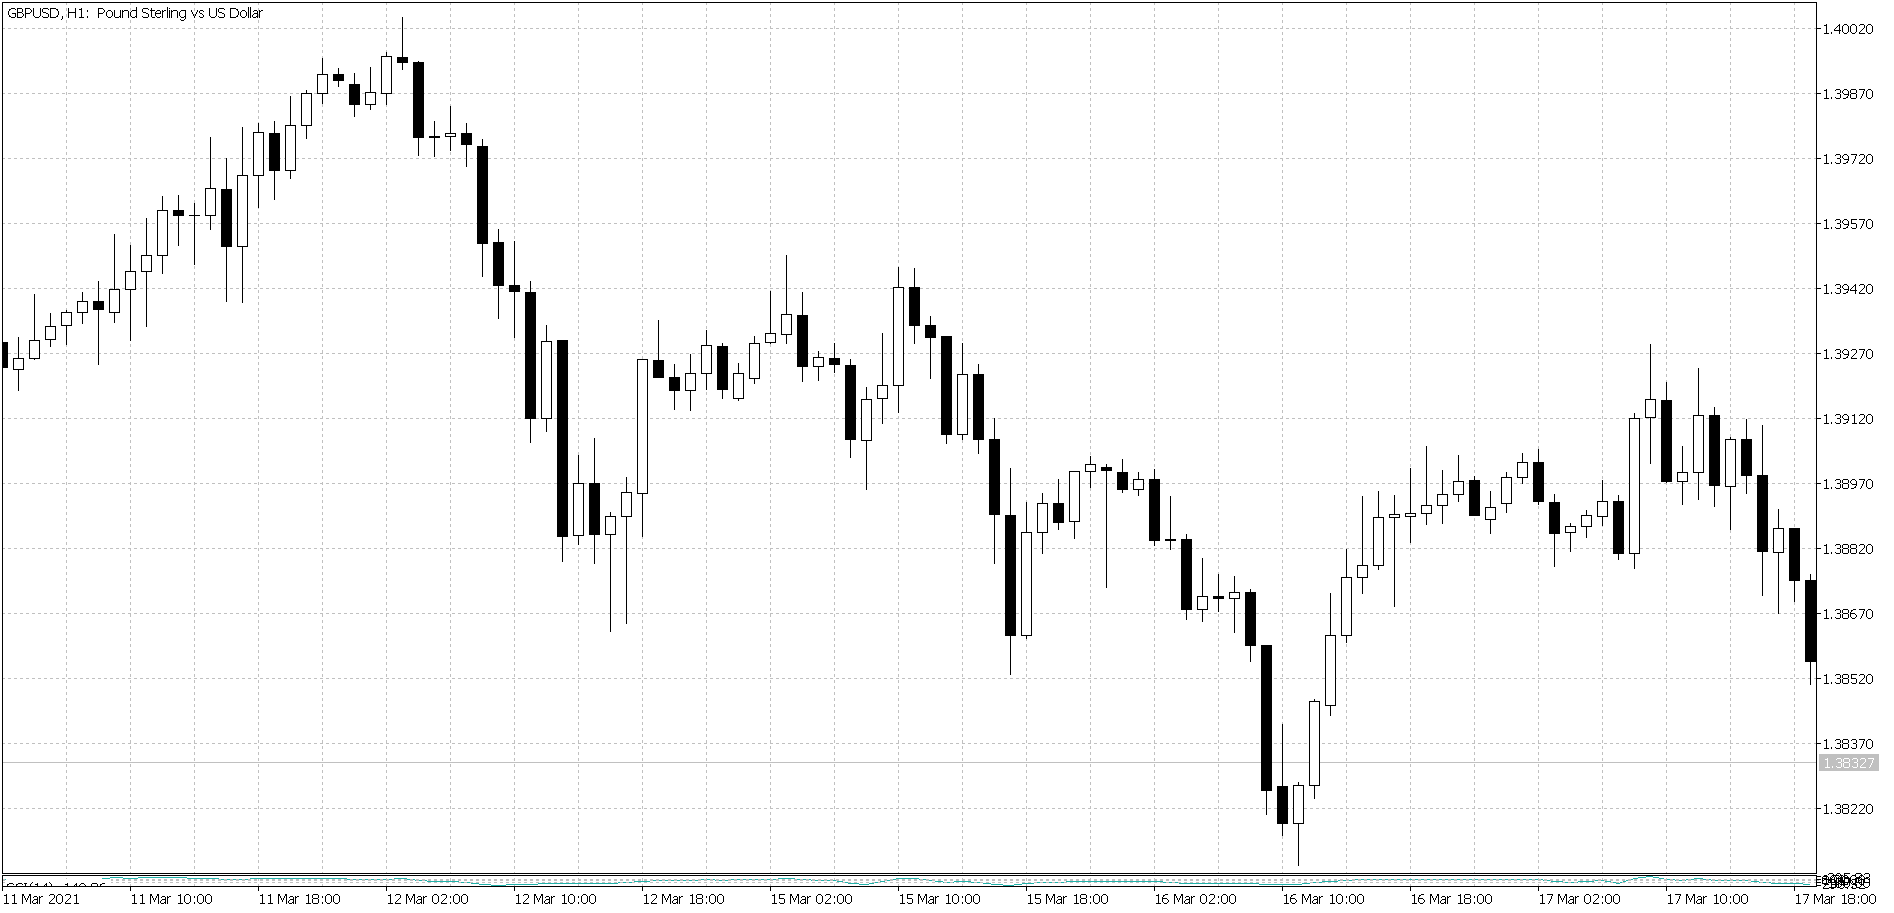3whitesoldiers: (1291, 592, 1337, 867)
hammer: (603, 501, 618, 641)
shootingStar: (394, 8, 411, 71)
